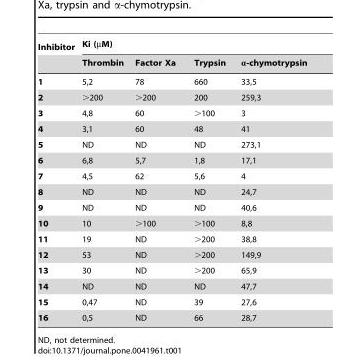table: (36, 37, 306, 321)
table column: (232, 37, 306, 321), (128, 37, 184, 321), (77, 37, 128, 321), (184, 37, 232, 321), (36, 37, 77, 321)
table column header: (36, 37, 306, 72)
table row: (36, 54, 306, 72), (36, 37, 306, 54), (36, 72, 306, 89), (36, 104, 306, 120), (36, 120, 306, 136), (36, 136, 306, 152), (36, 152, 306, 168), (36, 183, 306, 199), (36, 199, 306, 215), (36, 230, 306, 246), (36, 246, 306, 262), (36, 262, 306, 278), (36, 278, 306, 294), (36, 89, 306, 104), (36, 168, 306, 183), (36, 215, 306, 230), (36, 294, 306, 309), (36, 309, 306, 321)
table spanning cell: (77, 37, 306, 54), (36, 37, 77, 72)
